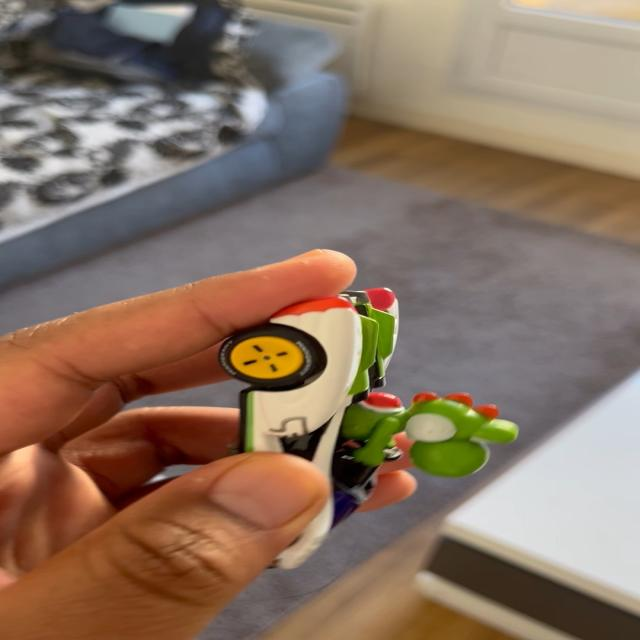yoshi: (214, 273, 547, 525)
